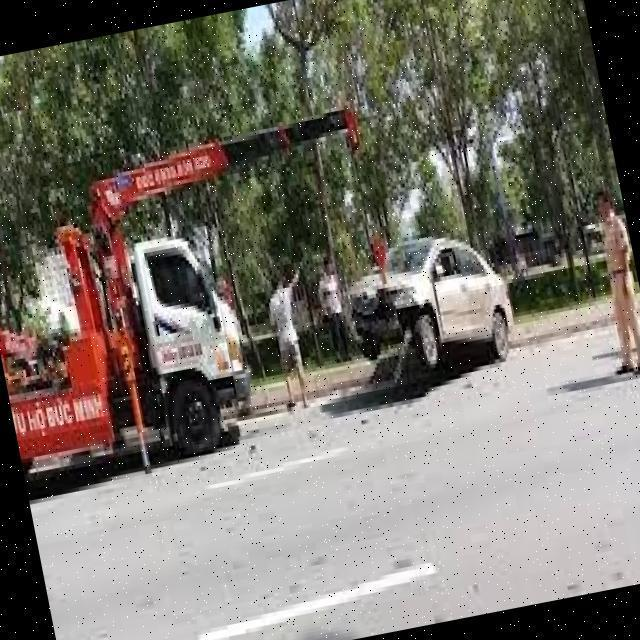accident: (314, 202, 533, 407)
